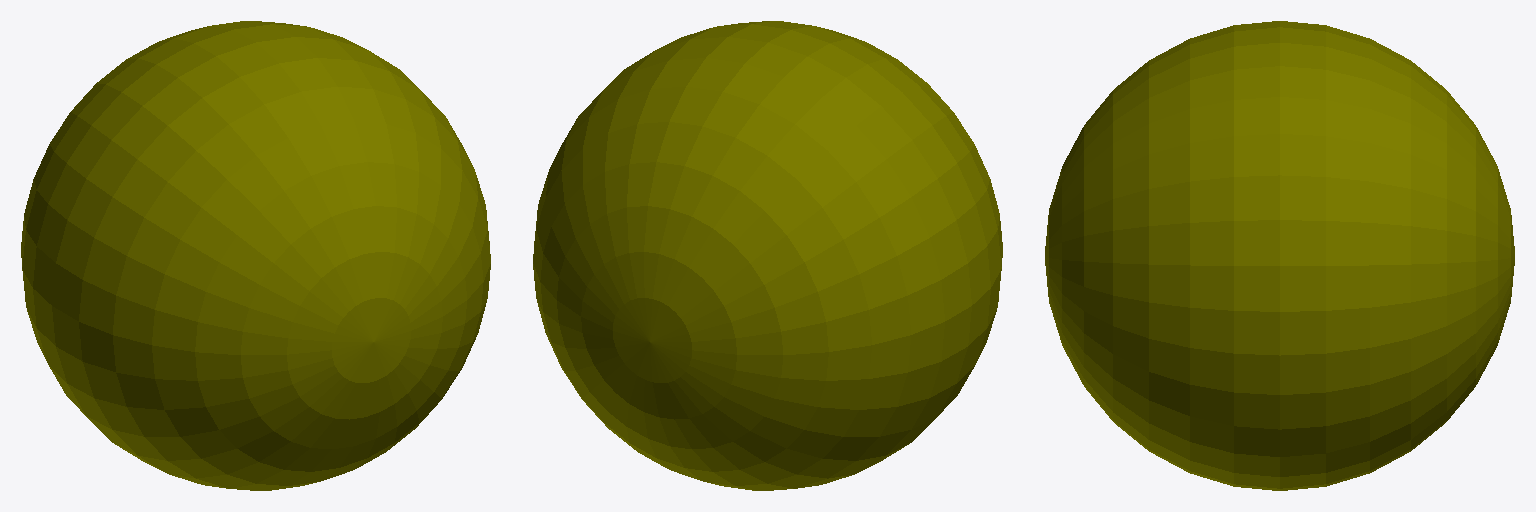
robot.urdf — sphere.urdf:
<?xml version="0.0" ?>
<robot name="sphere.urdf">
  <link name="sphere">
    <contact>
      <lateral_friction value="1.0"/>
      <rolling_friction value="0.0"/>
      <inertia_scaling value="3.0"/>
      <contact_cfm value="0.0"/>
      <contact_erp value="1.0"/>
    </contact>
    <inertial>
      <origin rpy="0 0 0" xyz="0 0 0"/>
      <mass value="0.1"/>
      <inertia ixx="1" ixy="0" ixz="0" iyy="1" iyz="0" izz="0"/>
    </inertial>
    <visual>
      <origin rpy="0 0 0" xyz="0 0 0"/>
      <geometry>
        <mesh filename="sphere.obj" scale="0.01 0.01 0.01"/>
      </geometry>
      <material name="blockmat">
        <color rgba="0.5 0.5 0.01 1"/>
      </material>
    </visual>
    <collision>
      <origin rpy="0 0 0" xyz="0 0 0"/>
      <geometry>
        <mesh filename="sphere.obj" scale="0.01 0.01 0.01"/>
      </geometry>
    </collision>
  </link>
</robot>

--- Render facts (derived) ---
3 views of the same robot in one strip: view 1: azimuth 30°, elevation 25°; view 2: azimuth 150°, elevation 25°; view 3: azimuth 270°, elevation 25° (orthographic).
Robot: sphere.urdf — 1 links, 0 joints (none); root link sphere; default pose: all joints at 0.
Visible links, largest first — view 1: sphere; view 2: sphere; view 3: sphere.
Link boxes in pixels (box(x1,y1,x2,y2)): sphere: box(21, 21, 490, 490); sphere: box(533, 21, 1002, 490); sphere: box(1045, 21, 1514, 490).
Size in the robot's own frame: 0.02 by 0.02 by 0.02 metres.
Meshes: 1 distinct files referenced, 1 mesh visuals loaded (1 OBJ).